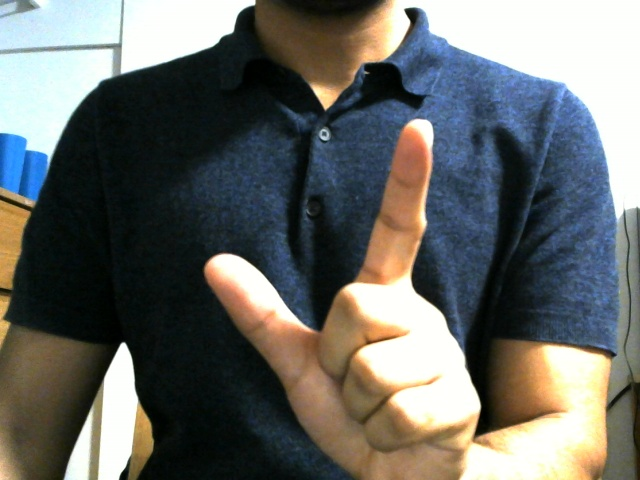L: (190, 111, 503, 480)
